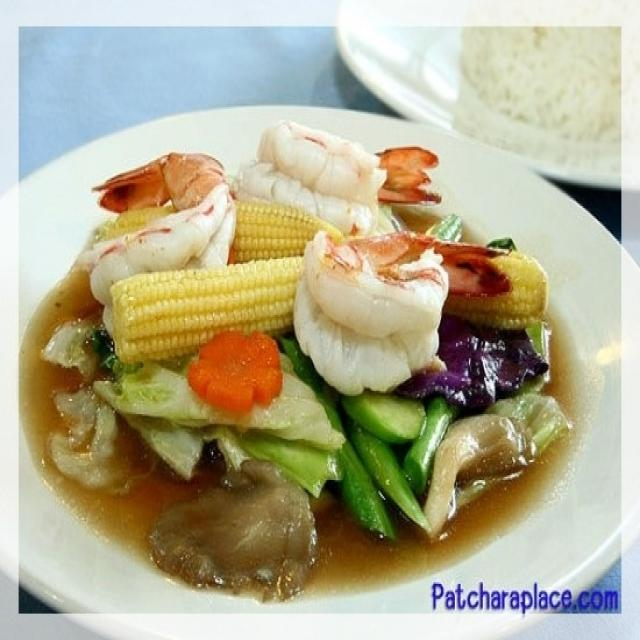蔬菜料理: (31, 92, 596, 597)
